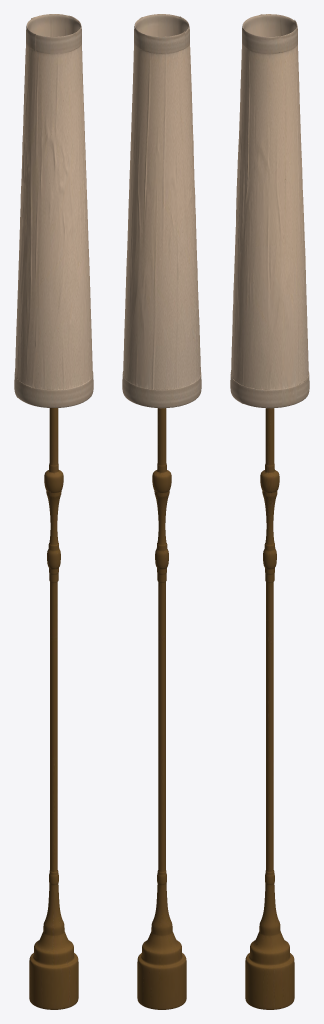
The model's file is room_floor_lamp.glb.
The picture shows the model from 3 angles, left to right: view 1: azimuth 30°, elevation 25°; view 2: azimuth 210°, elevation 25°; view 3: azimuth 270°, elevation 25°; orthographic projection.
Parts seen in each view (by area): view 1: mesh_node.004; view 2: mesh_node.004; view 3: mesh_node.004.
Part boxes in pixels (x1,y1,x2,y2): mesh_node.004: (14,14,93,1009); mesh_node.004: (122,14,201,1009); mesh_node.004: (230,14,309,1009).
Size of the model in its own units: 0.111 by 1.51 by 0.1111.
1 material, 1 textured.
